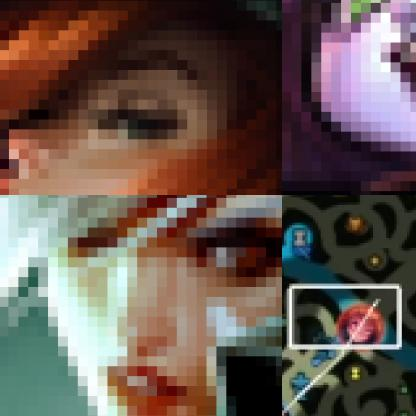Lulu: (282, 0, 415, 194)
Miss Fortune: (0, 0, 281, 194)
Riven: (0, 195, 281, 415)
Zoe: (341, 302, 388, 349)
